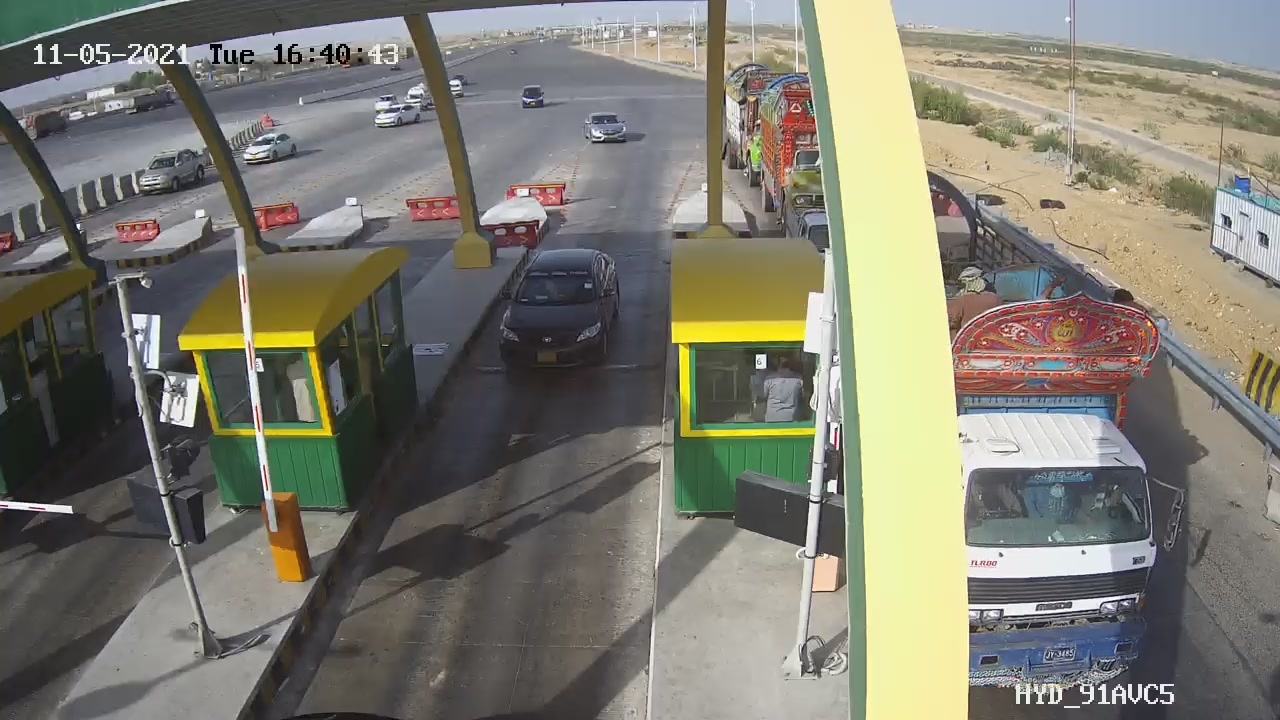F1: (487, 240, 631, 385)
